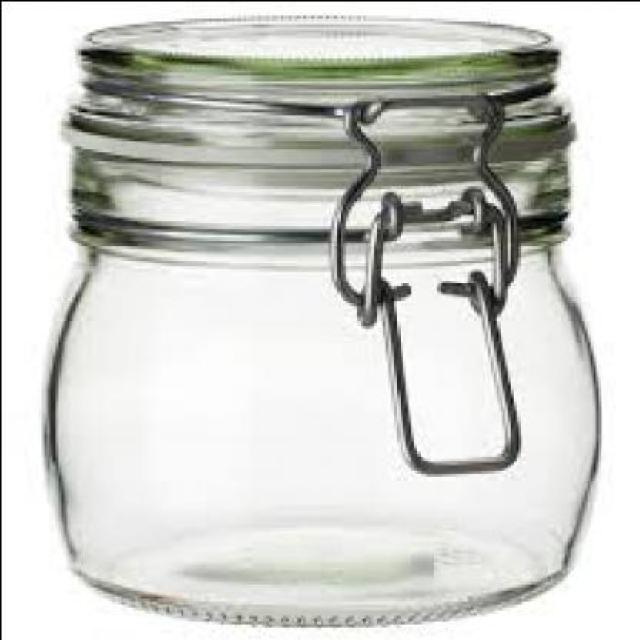GLASS: (48, 11, 598, 623)
